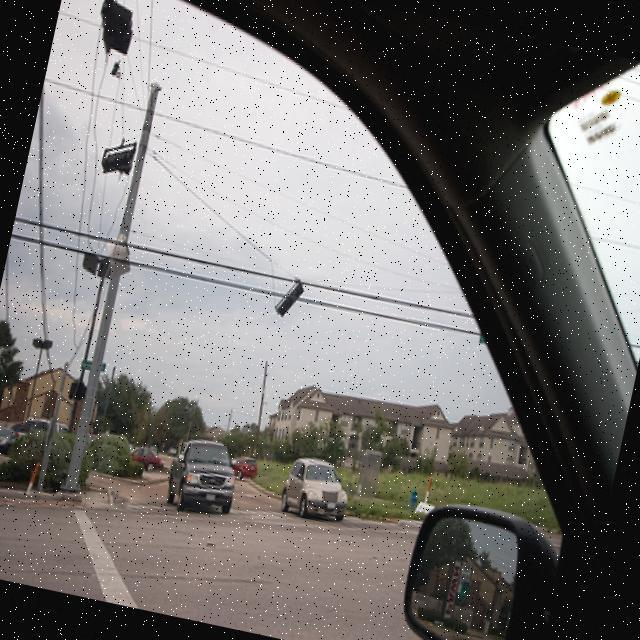fire_hydrant: (406, 484, 419, 510)
